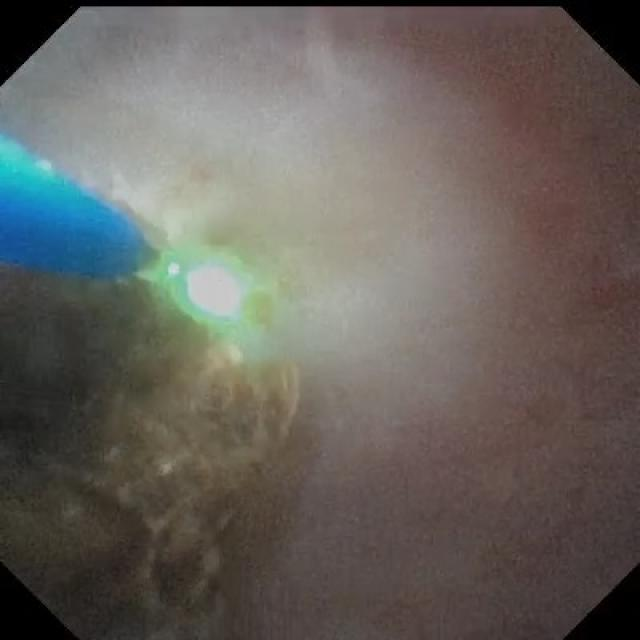laser-fibre: (138, 242, 178, 282)
laser_dot: (187, 266, 242, 317)
stone-new: (0, 267, 298, 638)
